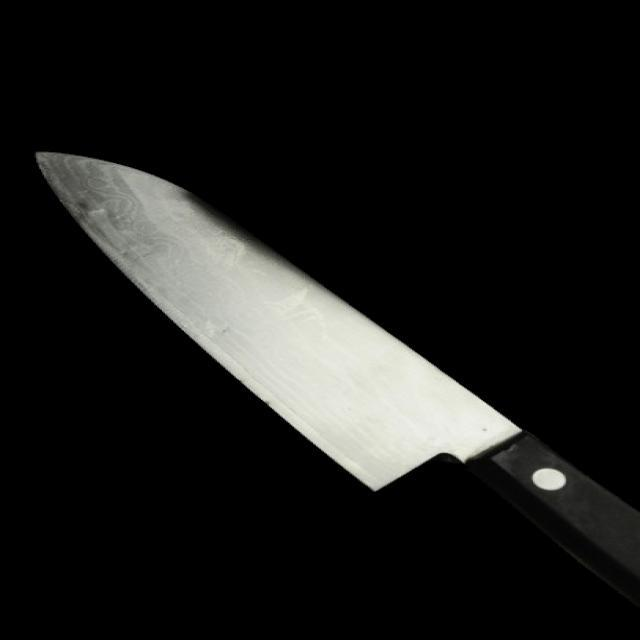knife: (22, 149, 638, 617)
